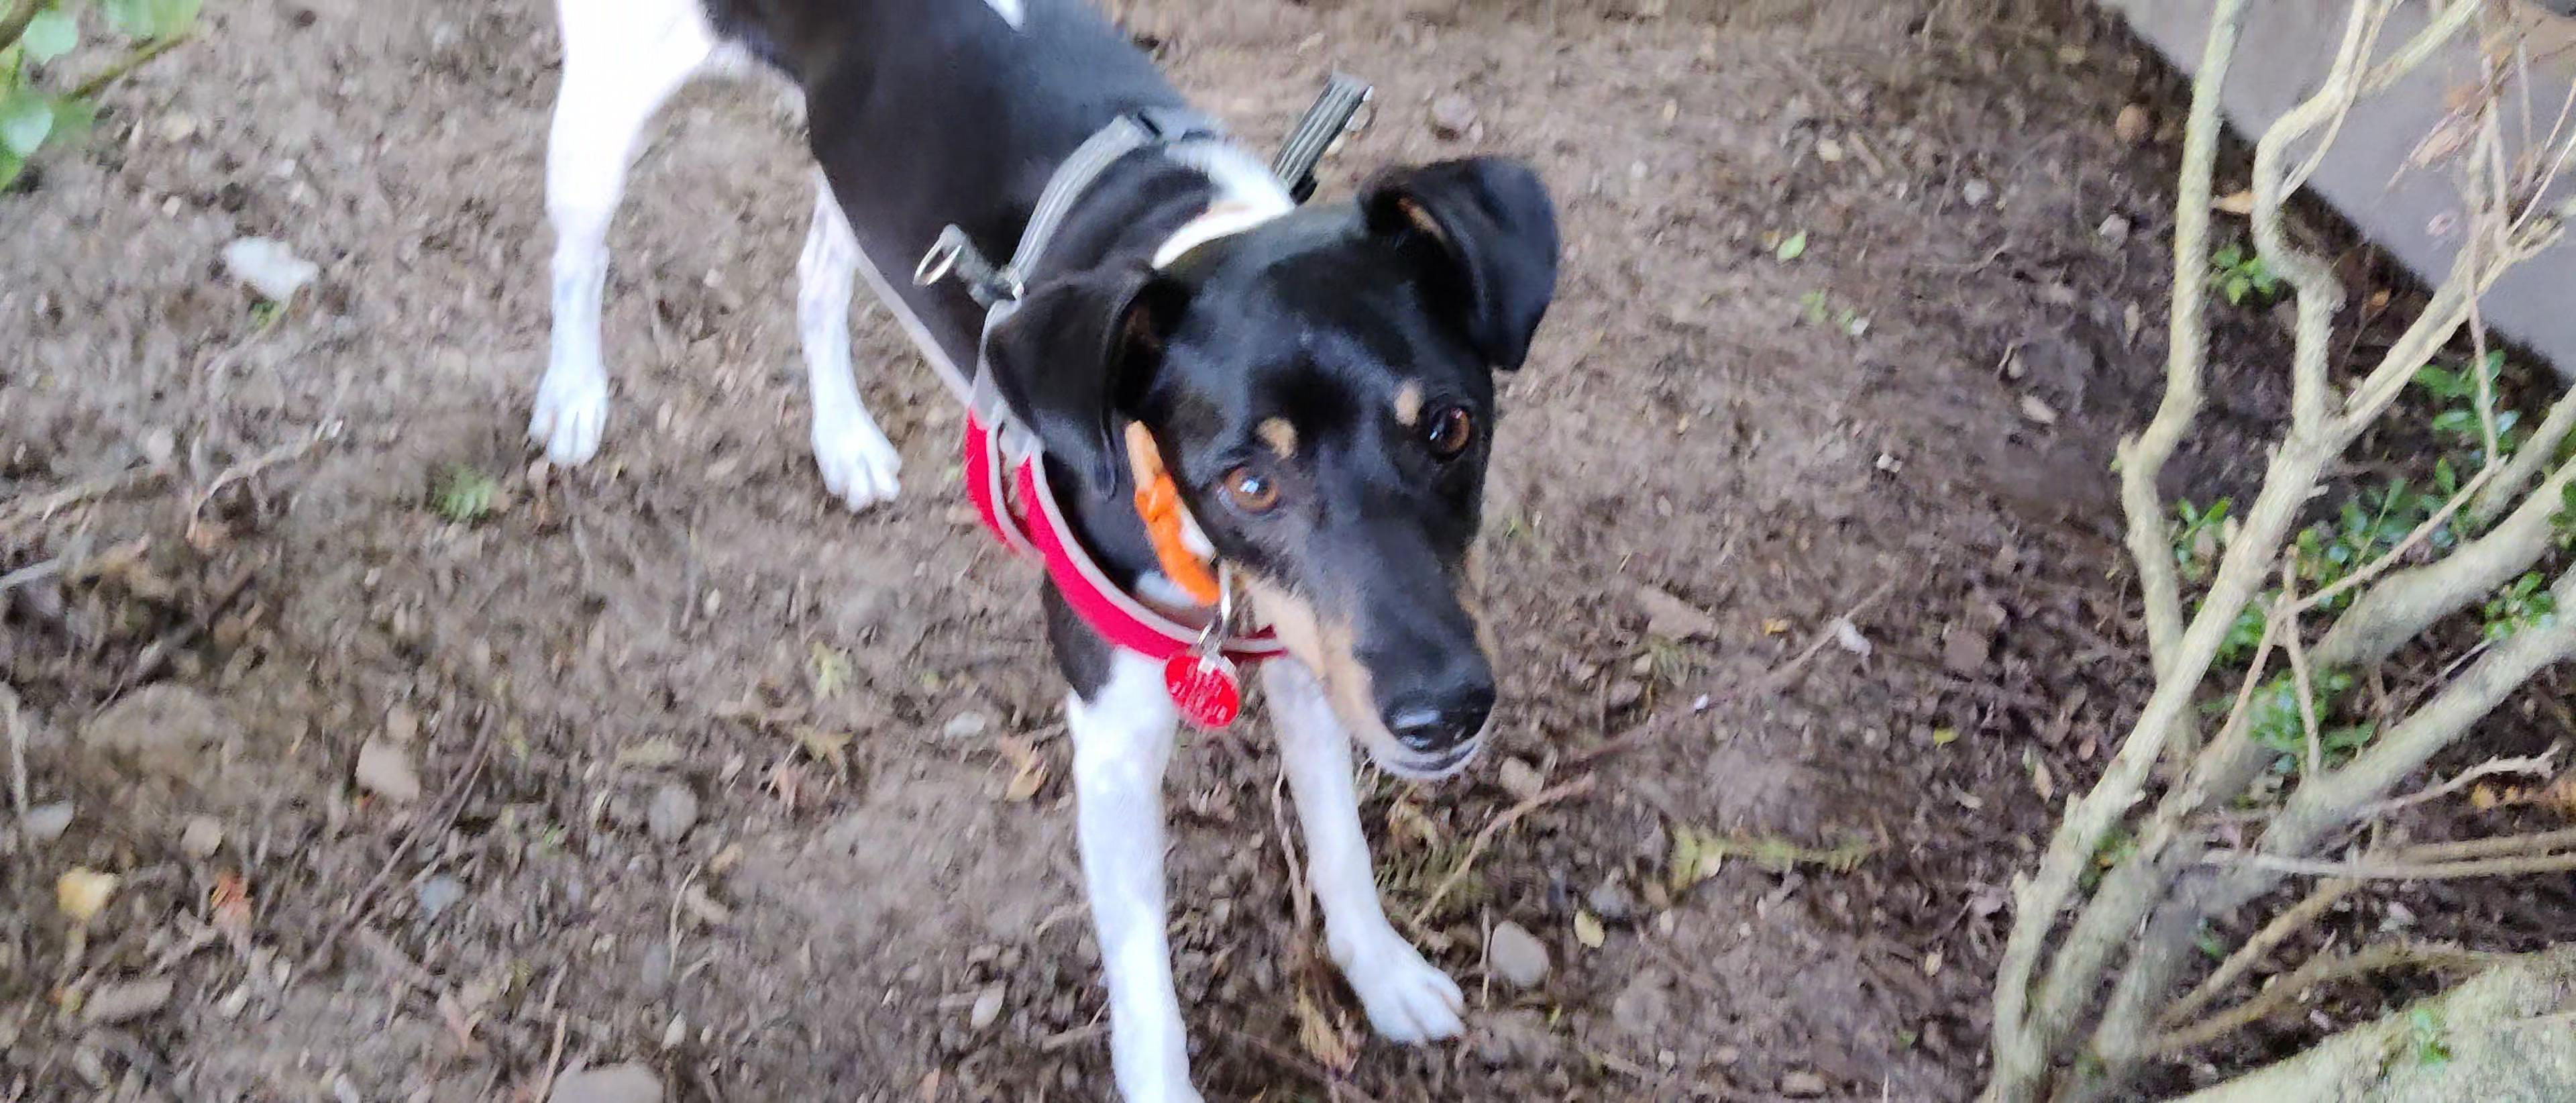Dog: (494, 0, 1594, 1103)
